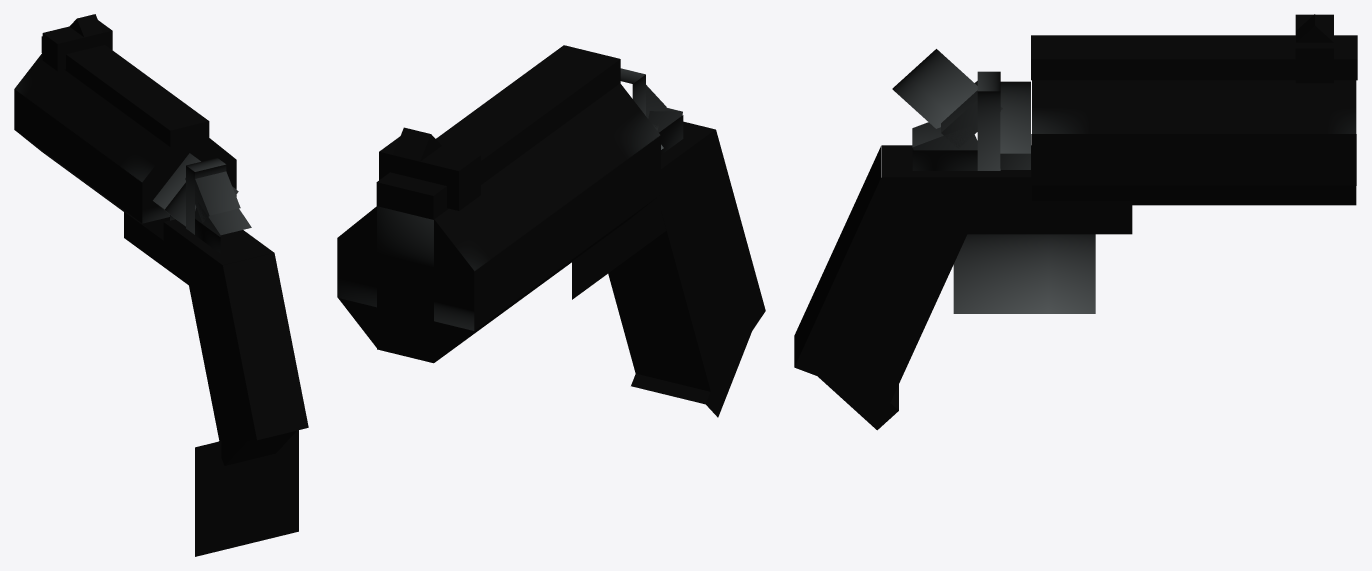
The model's file is jeg_flare_gun.glb.
The picture shows the model from 3 angles, left to right: view 1: azimuth 30°, elevation 25°; view 2: azimuth 150°, elevation 25°; view 3: azimuth 270°, elevation 25°; orthographic projection. The views are drawn at different scales.
Visible parts, largest first — view 1: Gun; view 2: Gun; view 3: Gun.
Boxes of the visible parts, x1,y1,x2,y2 form: Gun: (14, 14, 308, 556); Gun: (337, 45, 765, 417); Gun: (794, 14, 1357, 430).
Size of the model in its own units: 0.0994 by 0.3668 by 0.367.
Materials: 1 (1 with a texture image).
